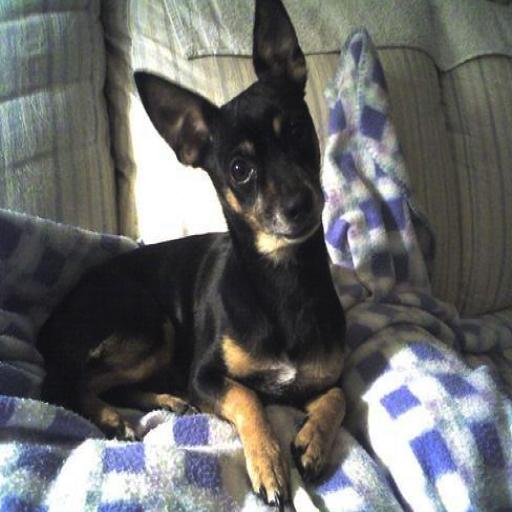dog_face: (135, 3, 318, 248)
